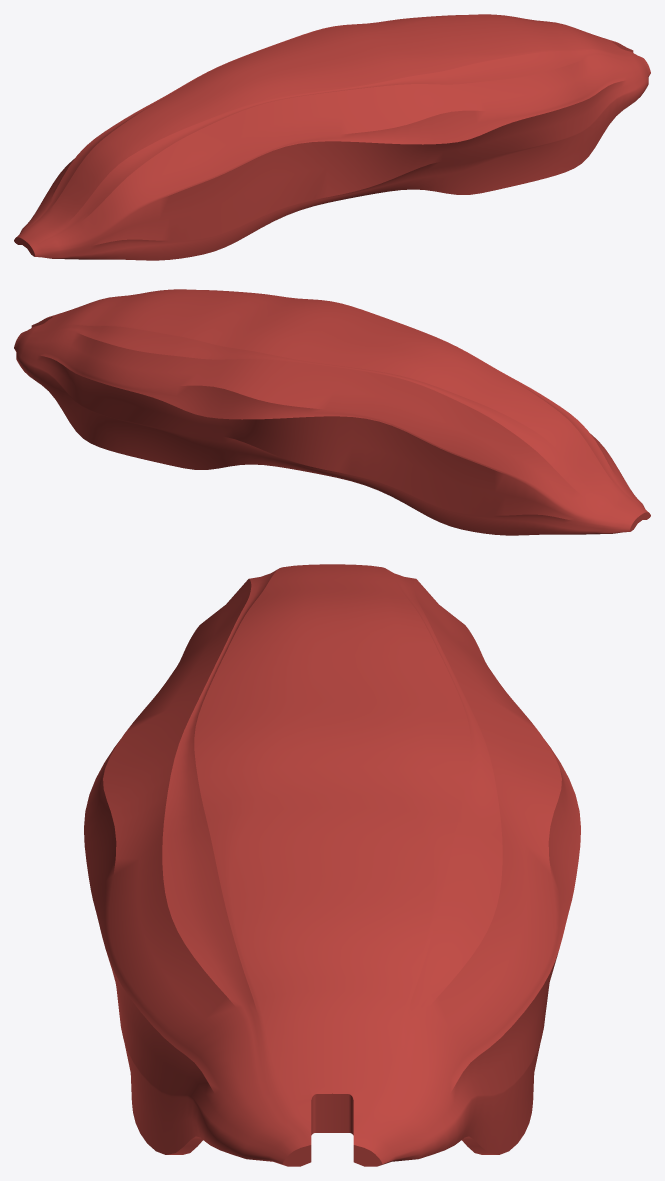
Rendered from sport_lod1.glb.
3 views of the same model, one above another, from view 1: azimuth 30°, elevation 25°; view 2: azimuth 150°, elevation 25°; view 3: azimuth 270°, elevation 25° (orthographic). The views are drawn at different scales.
Parts seen in each view (by area): view 1: sport_lod1; view 2: sport_lod1; view 3: sport_lod1.
Boxes of the visible parts, x1,y1,x2,y2 form: sport_lod1: (14,14,650,260); sport_lod1: (14,289,650,535); sport_lod1: (84,564,580,1166).
Size of the model in its own units: 1.07 by 0.2206 by 0.3736.
